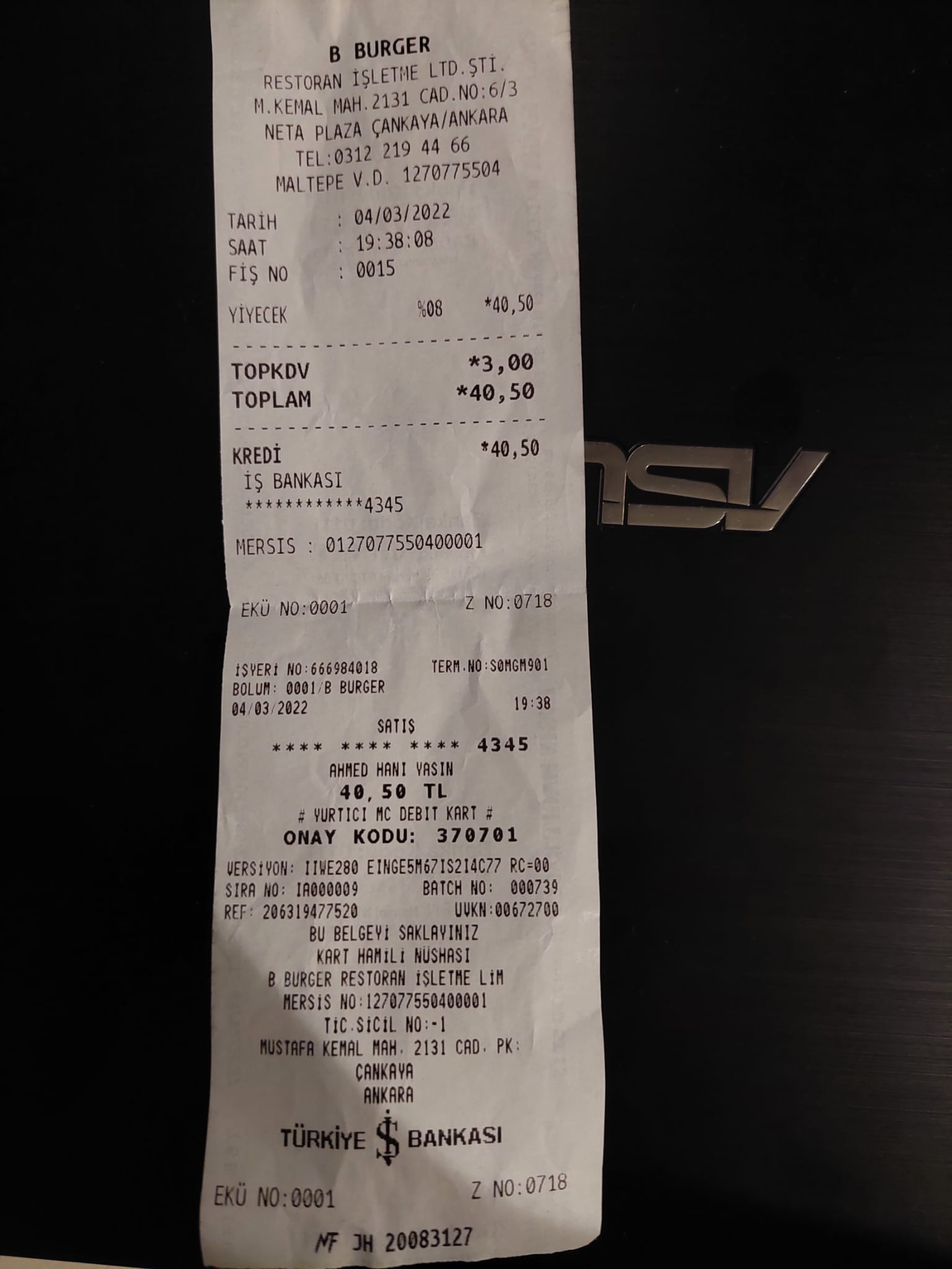date: (467, 377, 544, 410)
price: (349, 200, 455, 228)
workplace: (251, 23, 530, 141)
